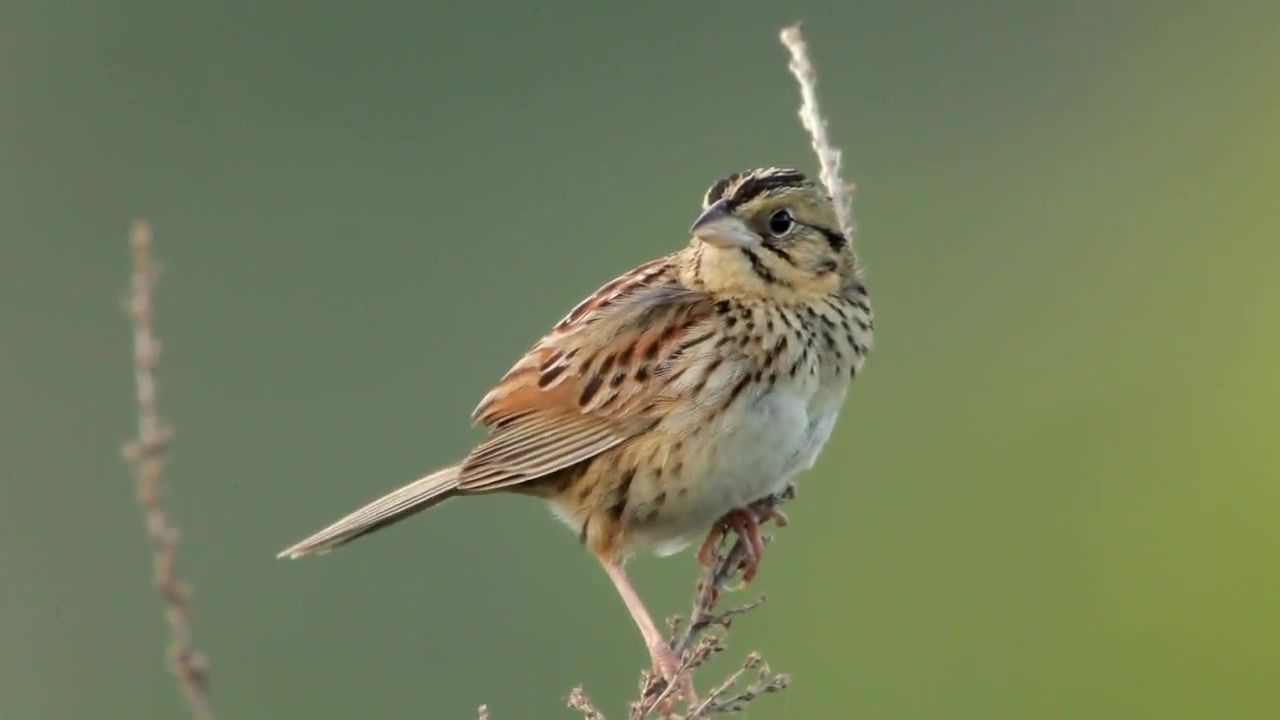bird: (275, 167, 877, 714)
